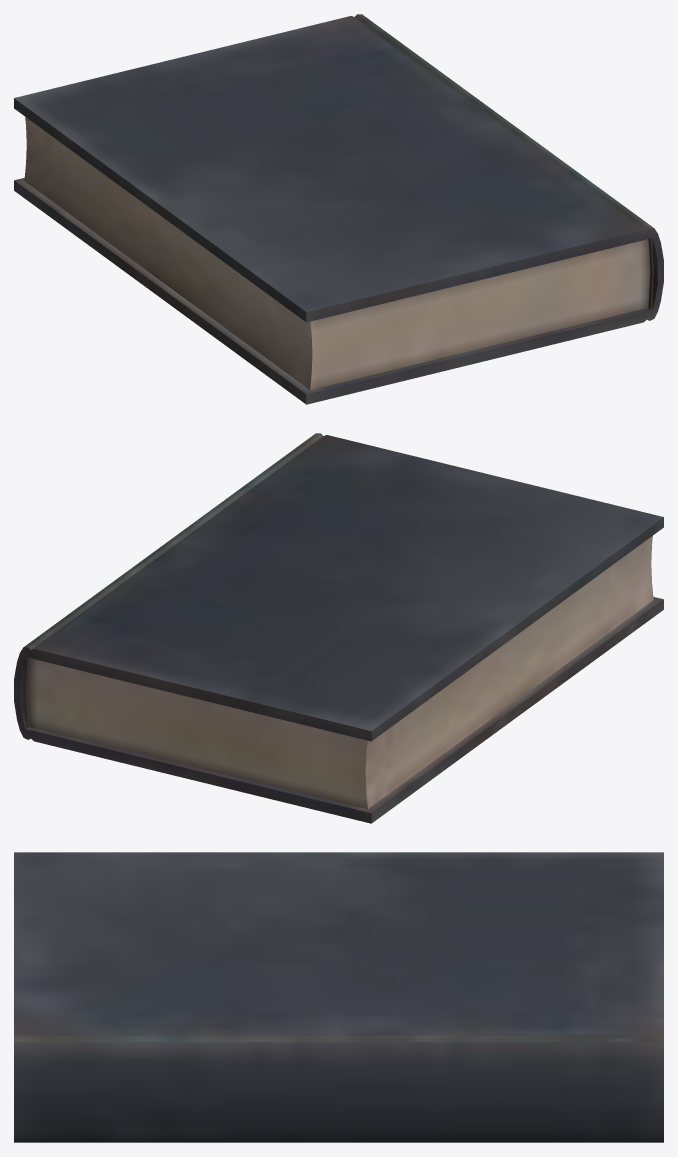
The model's file is book-single-c.glb.
The picture shows the model from 3 angles, top to bottom: view 1: azimuth 30°, elevation 25°; view 2: azimuth 150°, elevation 25°; view 3: azimuth 270°, elevation 25°; orthographic projection. The views are drawn at different scales.
Visible parts, largest first — view 1: book-single-c; view 2: book-single-c; view 3: book-single-c.
Part boxes in pixels (x1,y1,x2,y2): book-single-c: [14, 14, 663, 404]; book-single-c: [14, 433, 663, 823]; book-single-c: [14, 852, 663, 1142].
Bounding box in the file's own units: 0.1657 × 0.041 × 0.2349.
Materials: 1 (1 with a texture image).
